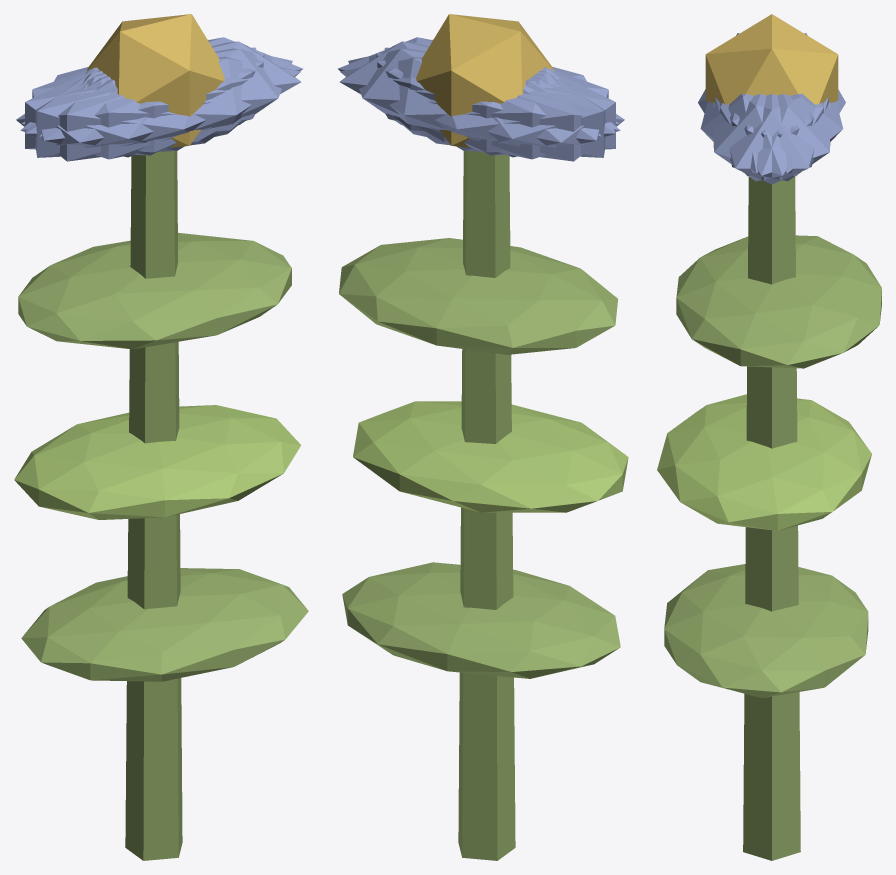
The model's file is pachystachys-lutea.glb.
3 renders of one model, left to right at view 1: azimuth 30°, elevation 25°; view 2: azimuth 150°, elevation 25°; view 3: azimuth 270°, elevation 25°, orthographic.
Parts seen in each view (by area): view 1: stem, leaf1, leaf0, leaf2, center, petal1, petal6, petal2, petal5, petal7, petal0, petal4 (+2 smaller); view 2: stem, leaf2, leaf1, leaf0, center, petal8, petal3, petal7, petal4, petal2, petal0, petal5 (+2 smaller); view 3: stem, leaf2, leaf1, leaf0, center, petal0, petal4, petal5, petal8, petal1.
Part boxes in pixels (x1,y1,x2,y2): stem: [125, 151, 182, 860]; leaf1: [14, 405, 301, 519]; leaf0: [21, 568, 308, 681]; leaf2: [18, 232, 291, 349]; center: [87, 14, 224, 147]; petal1: [20, 56, 300, 159]; petal6: [16, 69, 218, 161]; petal2: [35, 47, 256, 157]; petal5: [39, 48, 292, 152]; petal7: [25, 53, 264, 155]; petal0: [86, 41, 300, 142]; petal4: [22, 37, 302, 133]; stem: [458, 151, 515, 860]; leaf2: [339, 238, 618, 354]; leaf1: [353, 401, 628, 512]; leaf0: [342, 562, 620, 678]; center: [416, 14, 553, 147]; petal8: [340, 56, 620, 159]; petal3: [422, 69, 624, 161]; petal7: [384, 47, 605, 157]; petal4: [348, 48, 601, 152]; petal2: [376, 53, 615, 155]; petal0: [340, 41, 554, 142]; petal5: [338, 37, 618, 133]; stem: [743, 176, 800, 860]; leaf2: [676, 235, 881, 368]; leaf1: [657, 394, 871, 530]; leaf0: [664, 564, 868, 697]; center: [705, 14, 838, 104]; petal0: [715, 94, 828, 184]; petal4: [720, 94, 830, 181]; petal5: [713, 94, 823, 181]; petal8: [730, 93, 843, 173]; petal1: [700, 93, 813, 173].
Bounding box in the file's own units: 0.1452 × 0.4157 × 0.1038.
